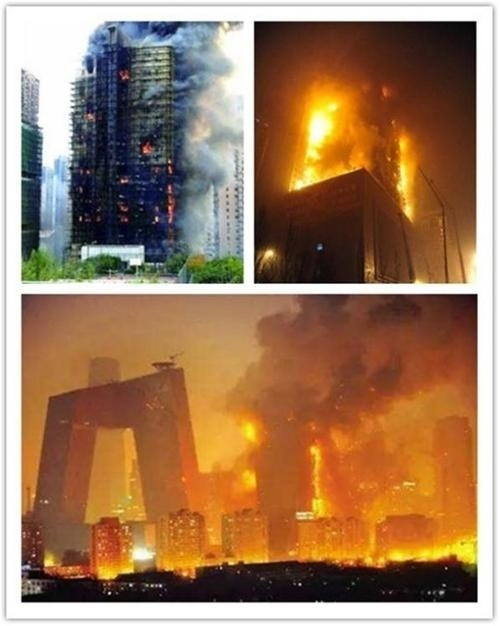fire: (289, 92, 348, 193), (392, 134, 416, 219), (116, 65, 131, 80), (141, 140, 152, 154)
